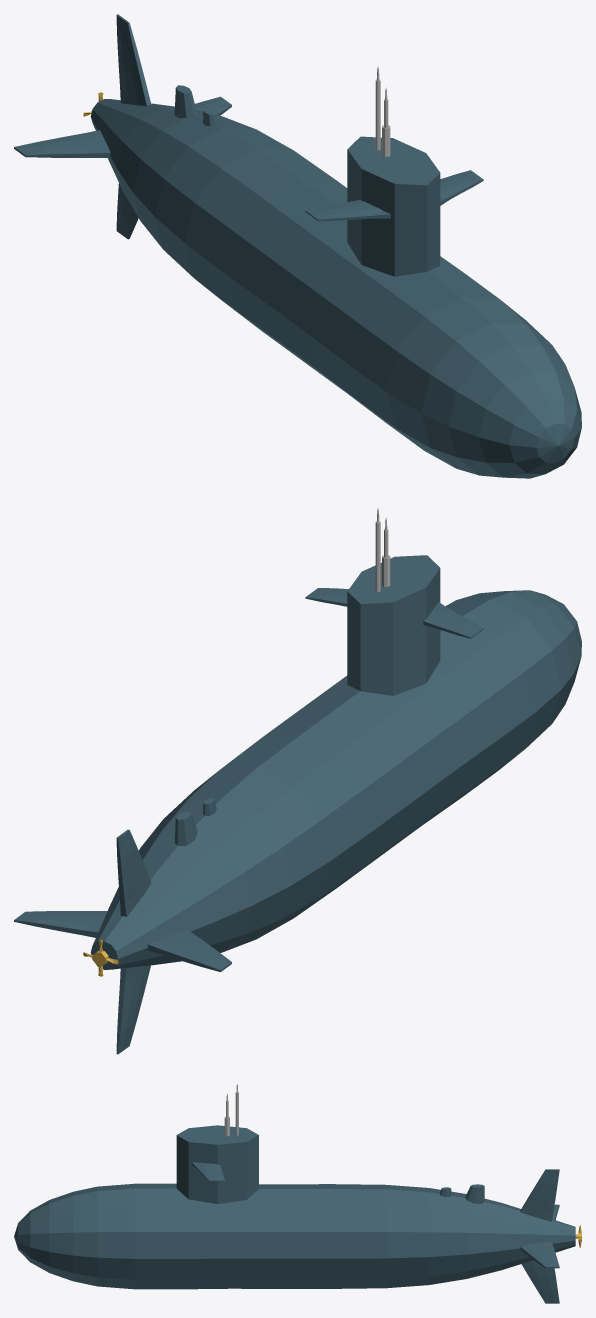
File: submarine.gltf
3 views of the same model, one above another, from view 1: azimuth 30°, elevation 25°; view 2: azimuth 150°, elevation 25°; view 3: azimuth 270°, elevation 25° (orthographic). The views are drawn at different scales.
Parts seen in each view (by area): view 1: node-0; view 2: node-0; view 3: node-0.
Part boxes in pixels (x1=…): node-0: x1=14, y1=14, x2=581, y2=478; node-0: x1=14, y1=508, x2=581, y2=1054; node-0: x1=14, y1=1084, x2=581, y2=1303.
Bounding box in the file's own units: 2.84 × 4.68 × 10.95.
